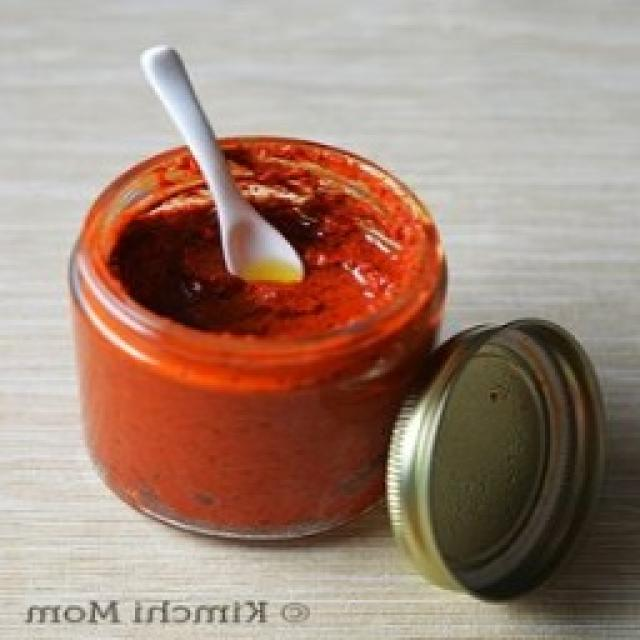Harissa: (68, 48, 448, 542)
